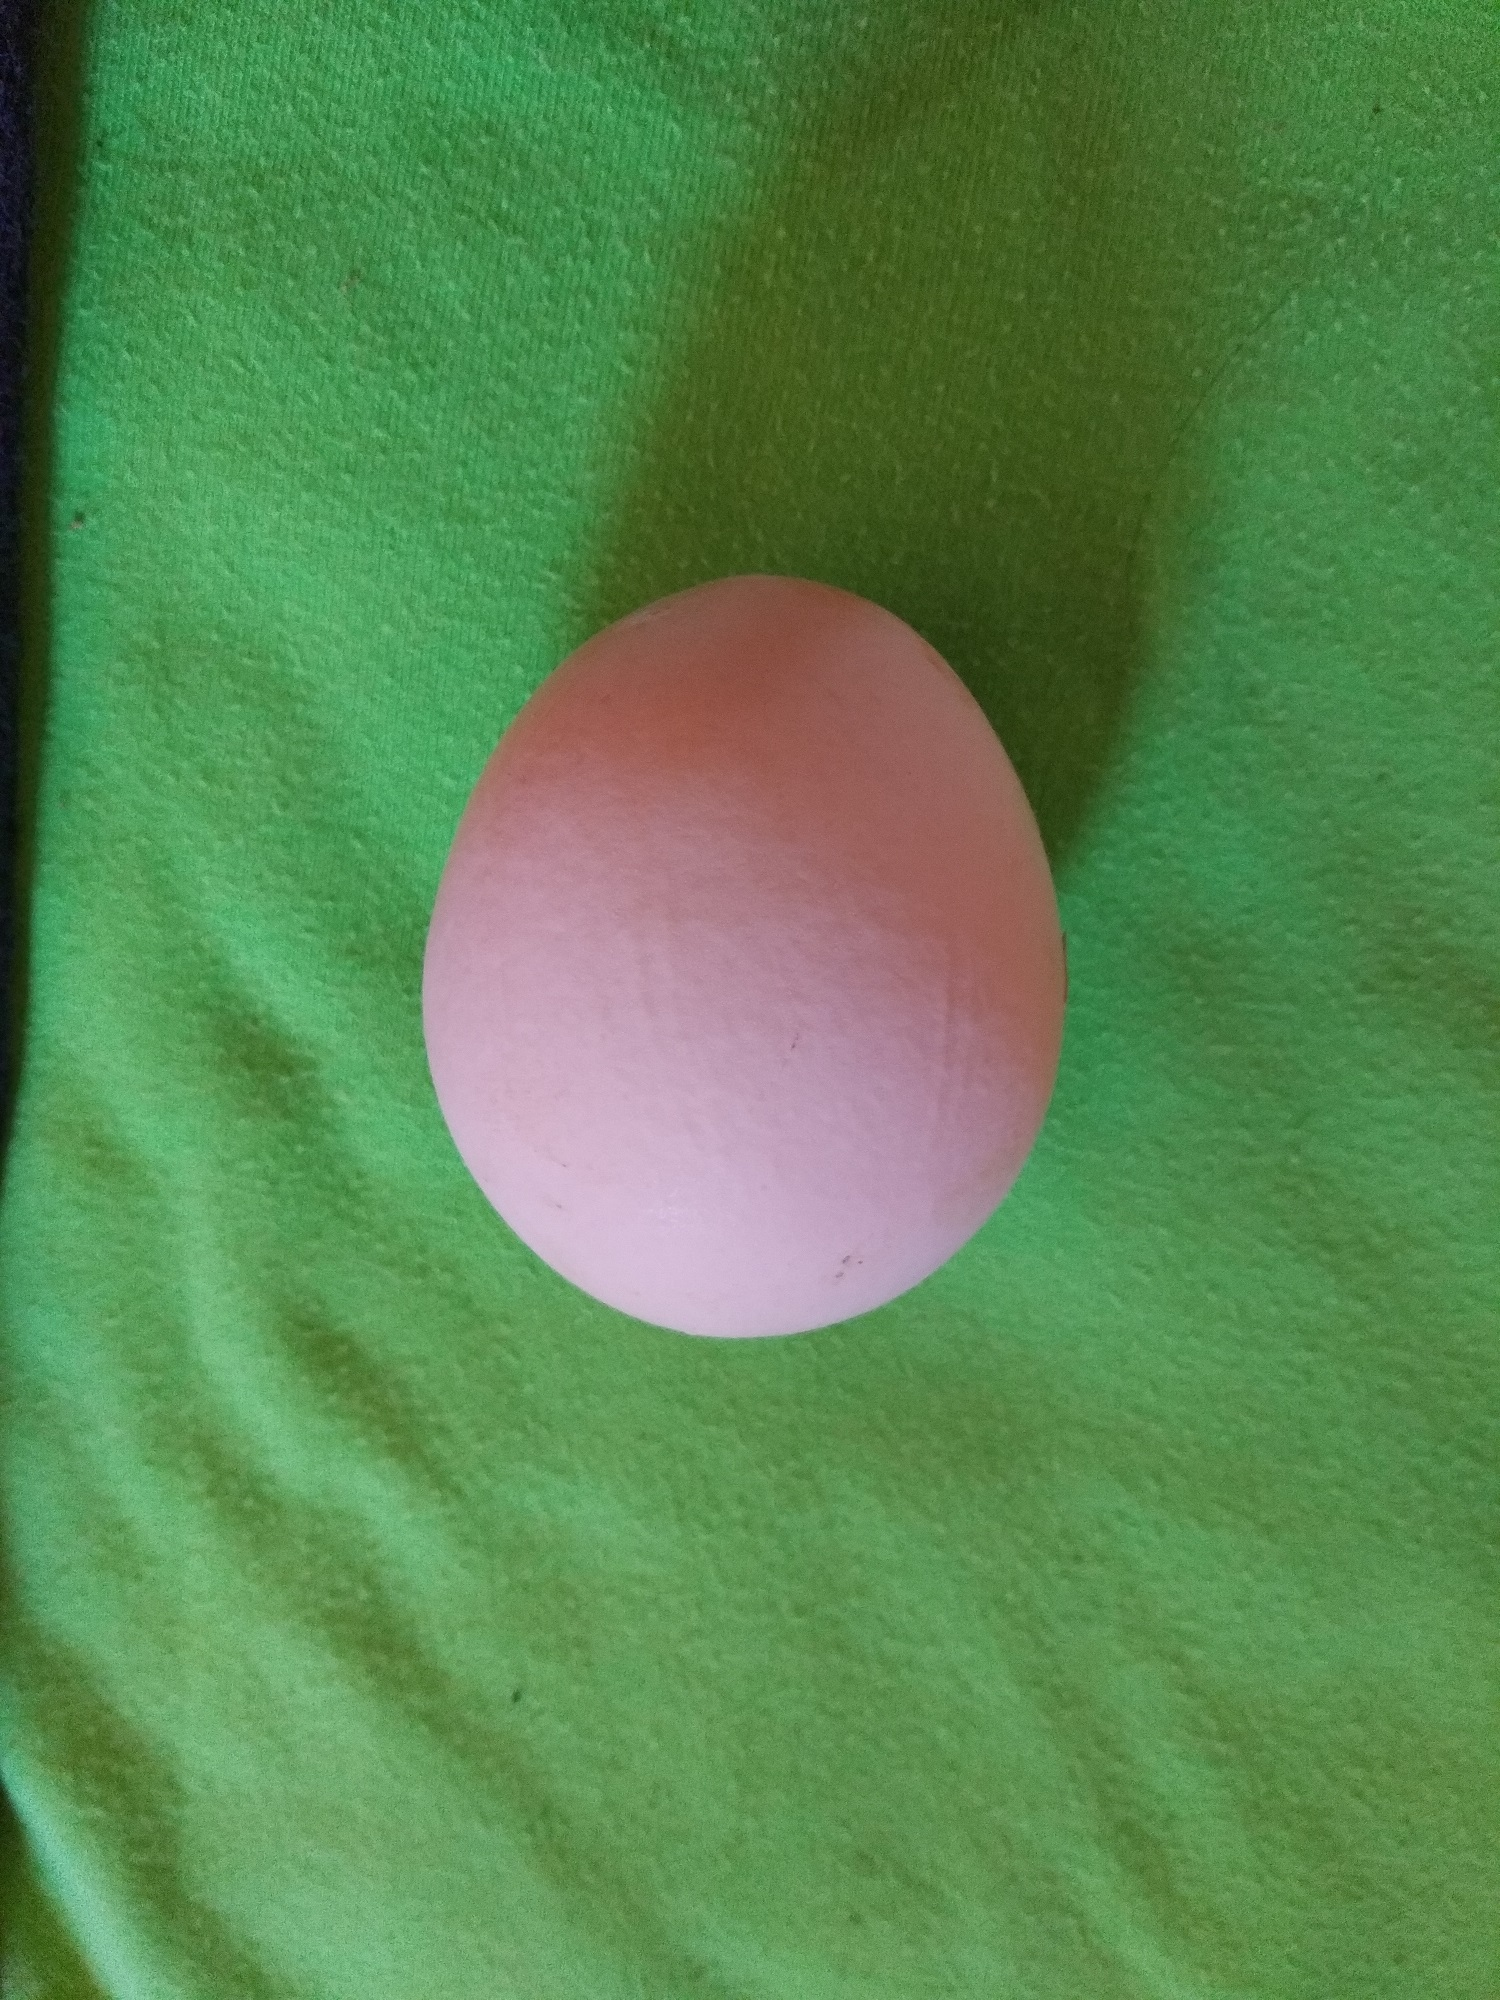Female: (413, 564, 1075, 1343)
